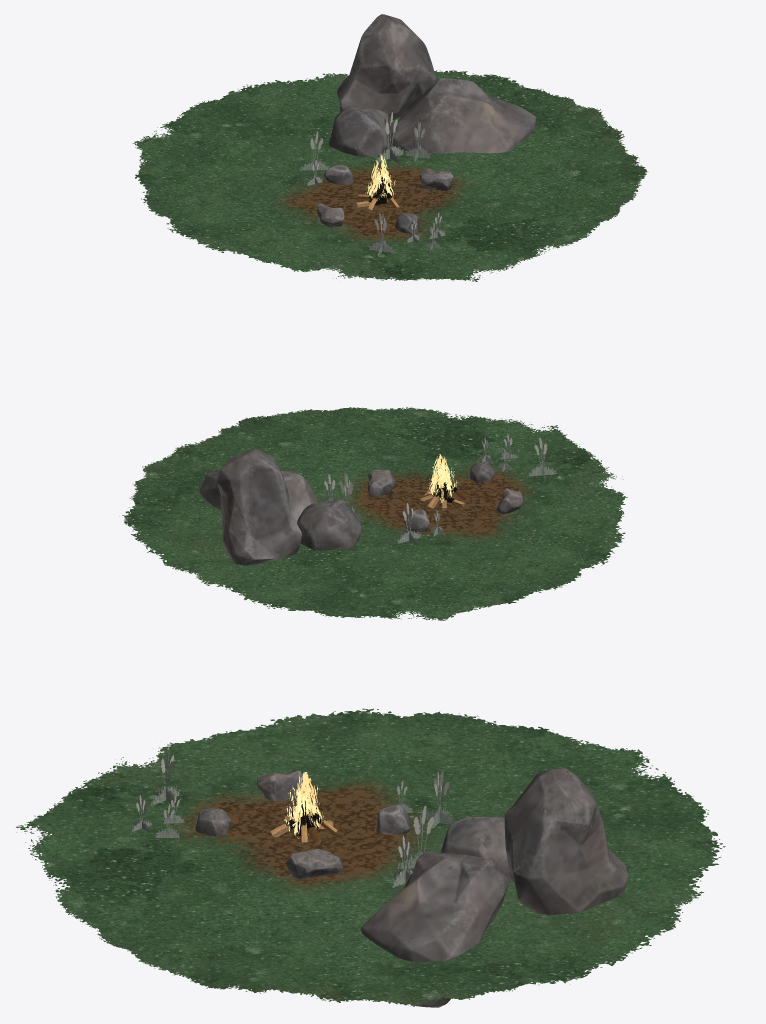
File: campfire.glb
The picture shows the model from 3 angles, top to bottom: view 1: azimuth 30°, elevation 25°; view 2: azimuth 150°, elevation 25°; view 3: azimuth 270°, elevation 25°; orthographic projection. The views are drawn at different scales.
Parts seen in each view (by area): view 1: Object_20, Object_24, Object_30, Object_6.002, mesh_1; view 2: Object_20, Object_24, Object_30, mesh_1, Object_6.002; view 3: Object_20, Object_24, Object_30, mesh_1, Object_6.002.
Part boxes in pixels (bbox=[...]): Object_20: bbox=[132, 70, 647, 281]; Object_24: bbox=[317, 14, 536, 233]; Object_30: bbox=[300, 112, 445, 256]; Object_6.002: bbox=[356, 177, 399, 210]; mesh_1: bbox=[365, 155, 395, 201]; Object_20: bbox=[119, 407, 627, 620]; Object_24: bbox=[199, 448, 523, 565]; Object_30: bbox=[324, 432, 556, 545]; mesh_1: bbox=[427, 454, 458, 502]; Object_6.002: bbox=[420, 475, 467, 510]; Object_20: bbox=[16, 708, 725, 1006]; Object_24: bbox=[195, 768, 628, 1007]; Object_30: bbox=[132, 747, 455, 887]; mesh_1: bbox=[284, 772, 323, 838]; Object_6.002: bbox=[270, 800, 337, 844].
Size of the model in its own units: 0.6 by 0.1788 by 0.6.
5 materials, 5 textured.
